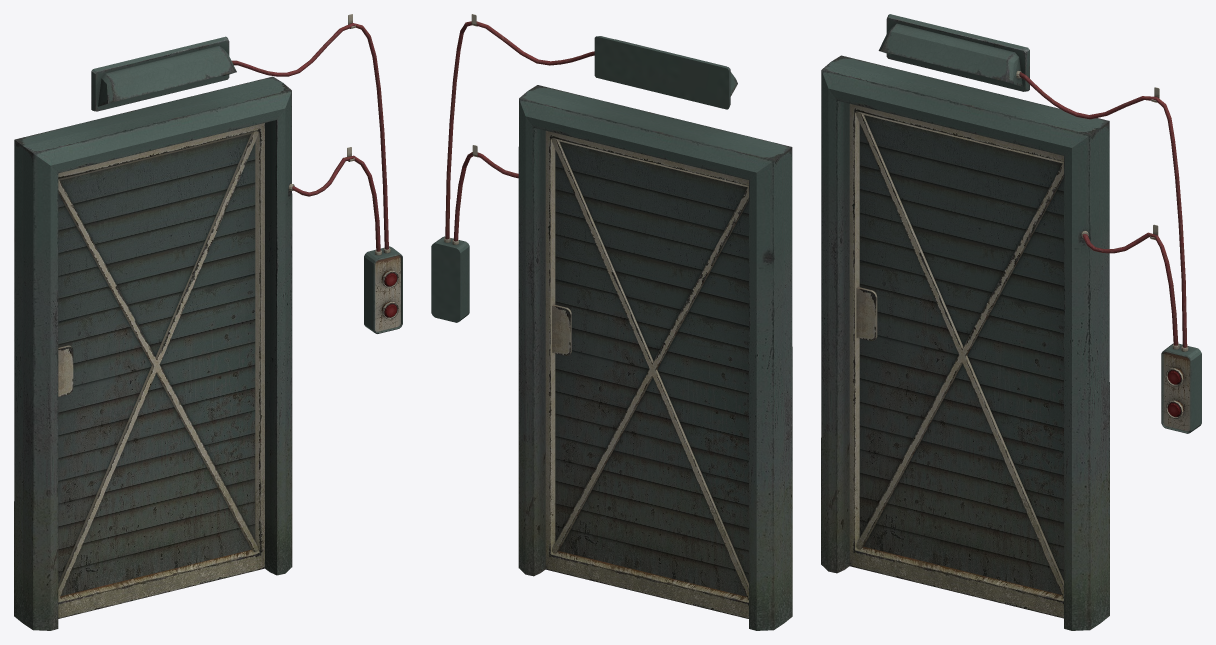
The model's file is door.glb.
The picture shows the model from 3 angles, left to right: view 1: azimuth 30°, elevation 25°; view 2: azimuth 150°, elevation 25°; view 3: azimuth 330°, elevation 25°; orthographic projection. The views are drawn at different scales.
Bounding box in the file's own units: 1.75 × 2.5 × 0.3009.
1 material, 1 textured.
